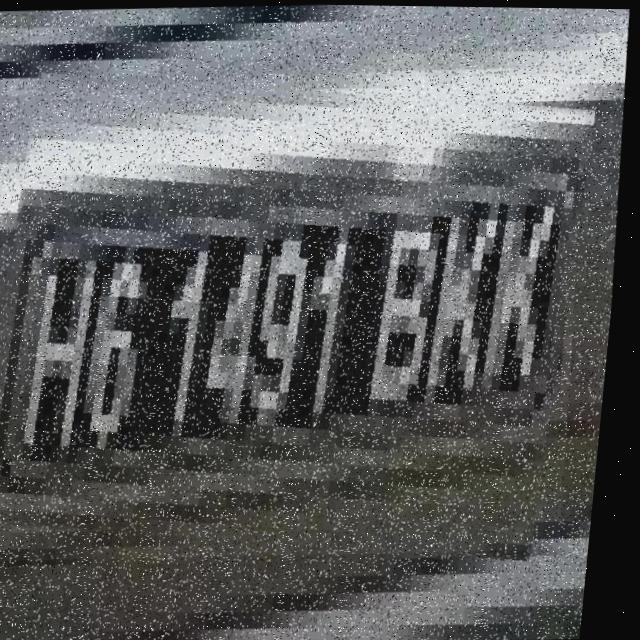LicensePlate: (0, 64, 606, 567)
